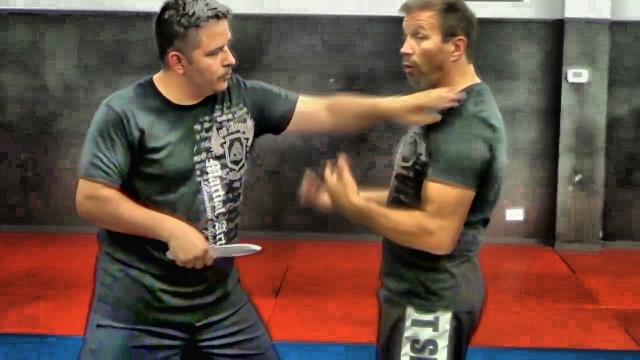knife: (163, 238, 264, 268)
